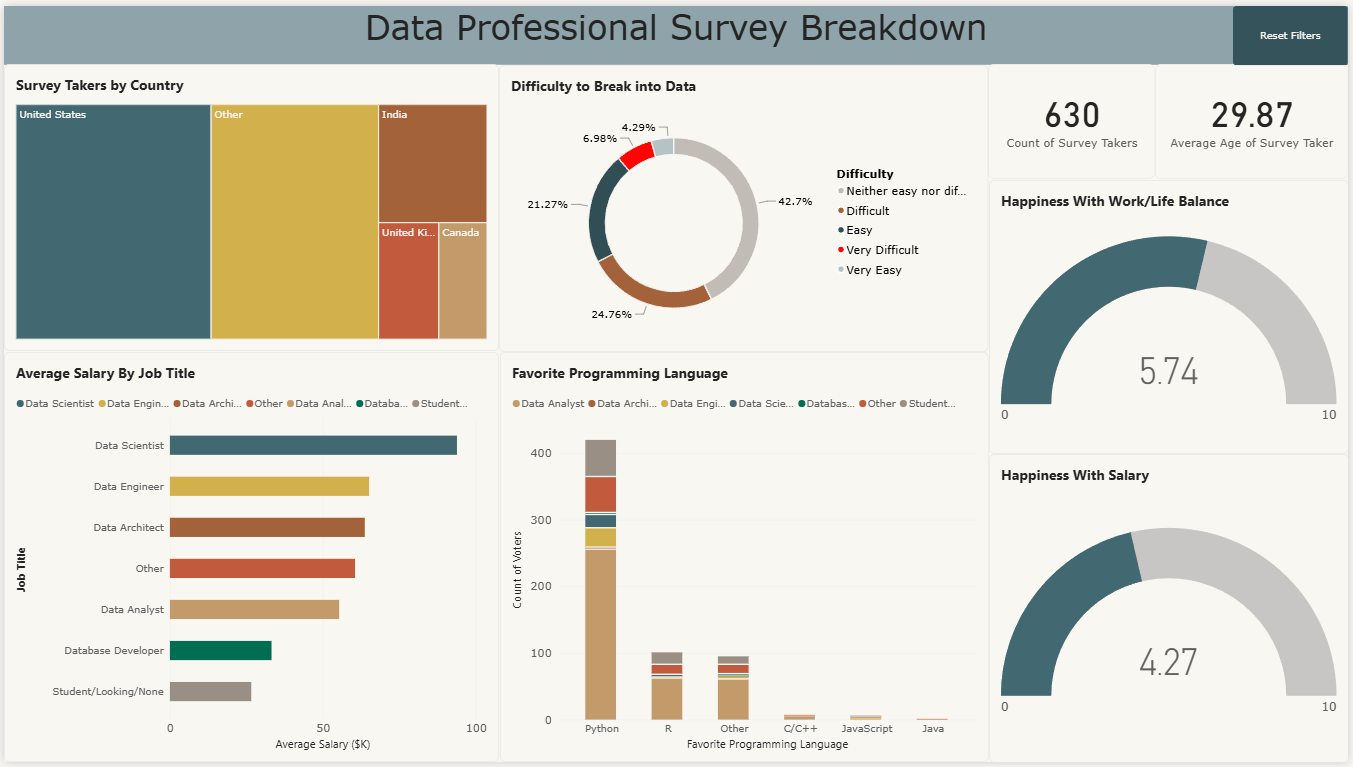

This screenshot's page, from the dashboard's own definition file:
{"tool":"powerbi","page":{"name":"Page 1","canvas":[1920,1080],"ordinal":0},"visuals":[{"type":"textbox","box":[0,0,1920,83.9],"z":0},{"type":"cardVisual","fields":{"Data":["Count(Data Professional Survey.Unique ID)"]},"box":[1405.8,83.2,238.6,164.6],"z":1000},{"type":"cardVisual","fields":{"Data":["Avg(Data Professional Survey.Q10 - Current Age)"]},"box":[1644.4,83.2,275.6,164.6],"z":2000},{"type":"barChart","title":"Average Salary By Job Title","fields":{"Category":["Data Professional Survey.Q1 - Which Title Best Fits your Current Role?.1"],"Series":["Data Professional Survey.Q1 - Which Title Best Fits your Current Role?.1"],"Y":["Avg(Data Professional Survey.Average salary)"]},"box":[0,494.1,707.3,586.2],"z":3000},{"type":"columnChart","title":"Favorite Programming Language","fields":{"Category":["Data Professional Survey.Q5 - Favorite Programming Language.1"],"Series":["Data Professional Survey.Q1 - Which Title Best Fits your Current Role?.1"],"Y":["CountNonNull(Data Professional Survey.Unique ID)"]},"box":[708.9,494.1,697.6,586.2],"z":4000},{"type":"treemap","fields":{"Group":["Data Professional Survey.Q11 - Which Country do you live in?.1"],"Values":["CountNonNull(Data Professional Survey.Q11 - Which Country do you live in?.1)"]},"box":[0,83.3,707,410.1],"z":5000},{"type":"gauge","title":"Happiness With Work/Life Balance","fields":{"MaxValue":["Max(Data Professional Survey.Q6 - How Happy are you in your Current Position with the following? (Work/Life Balance))2"],"MinValue":["Min(Data Professional Survey.Q6 - How Happy are you in your Current Position with the following? (Work/Life Balance))1"],"Y":["Avg(Data Professional Survey.Q6 - How Happy are you in your Current Position with the following? (Work/Life Balance))"]},"box":[1406.5,248.7,513.5,390.8],"z":6000},{"type":"gauge","title":"Happiness With Salary","fields":{"MaxValue":["Max(Data Professional Survey.Q6 - How Happy are you in your Current Position with the following? (Salary))"],"MinValue":["Min(Data Professional Survey.Q6 - How Happy are you in your Current Position with the following? (Salary))"],"Y":["Avg(Data Professional Survey.Q6 - How Happy are you in your Current Position with the following? (Salary))"]},"box":[1406.5,639.5,513.5,440.8],"z":7000},{"type":"donutChart","title":"Difficulty to Break into Data","fields":{"Category":["Data Professional Survey.Q7 - How difficult was it for you to break into Data?"],"Y":["CountNonNull(Data Professional Survey.Q7 - How difficult was it for you to break into Data?)"]},"box":[707.3,84,699.2,410.2],"z":8000},{"type":"actionButton","box":[1755.9,0,164.1,84.8],"z":8001}]}

Visuals, with their boxes in screenshot pixels (x1, y1, x2, y2), scaled from the page's 1920x1080 canvas onto the 1353x767 screenshot:
textbox: [0, 0, 1352, 60]
cardVisual - Count(Data Professional Survey.Unique ID): [991, 59, 1159, 176]
cardVisual - Avg(Data Professional Survey.Q10 - Current Age): [1159, 59, 1352, 176]
"Average Salary By Job Title" barChart: [0, 351, 498, 766]
"Favorite Programming Language" columnChart: [500, 351, 991, 766]
treemap - Data Professional Survey.Q11 - Which Country do you live in?.1 x CountNonNull(Data Professional Survey.Q11 - Which Country do you live in?.1): [0, 59, 498, 350]
"Happiness With Work/Life Balance" gauge: [991, 177, 1352, 454]
"Happiness With Salary" gauge: [991, 454, 1352, 766]
"Difficulty to Break into Data" donutChart: [498, 60, 991, 351]
actionButton: [1237, 0, 1352, 60]
